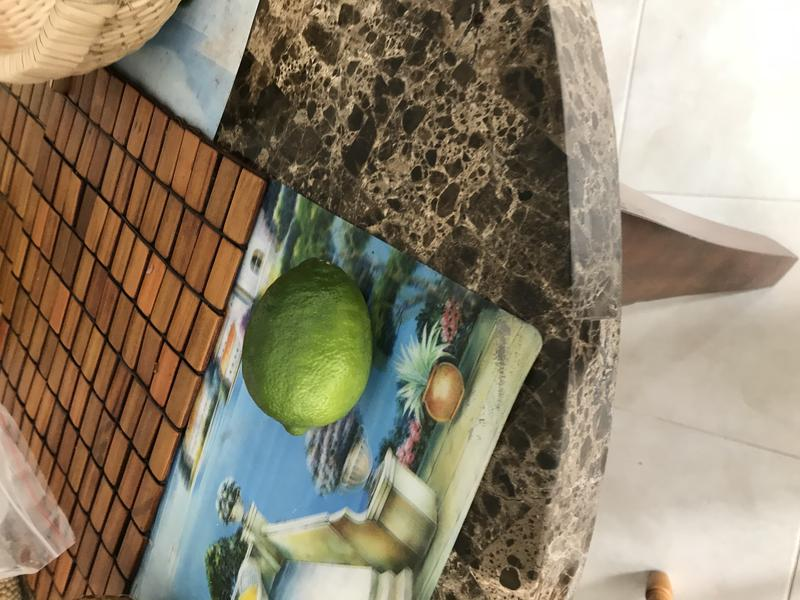lime: (238, 253, 376, 445)
